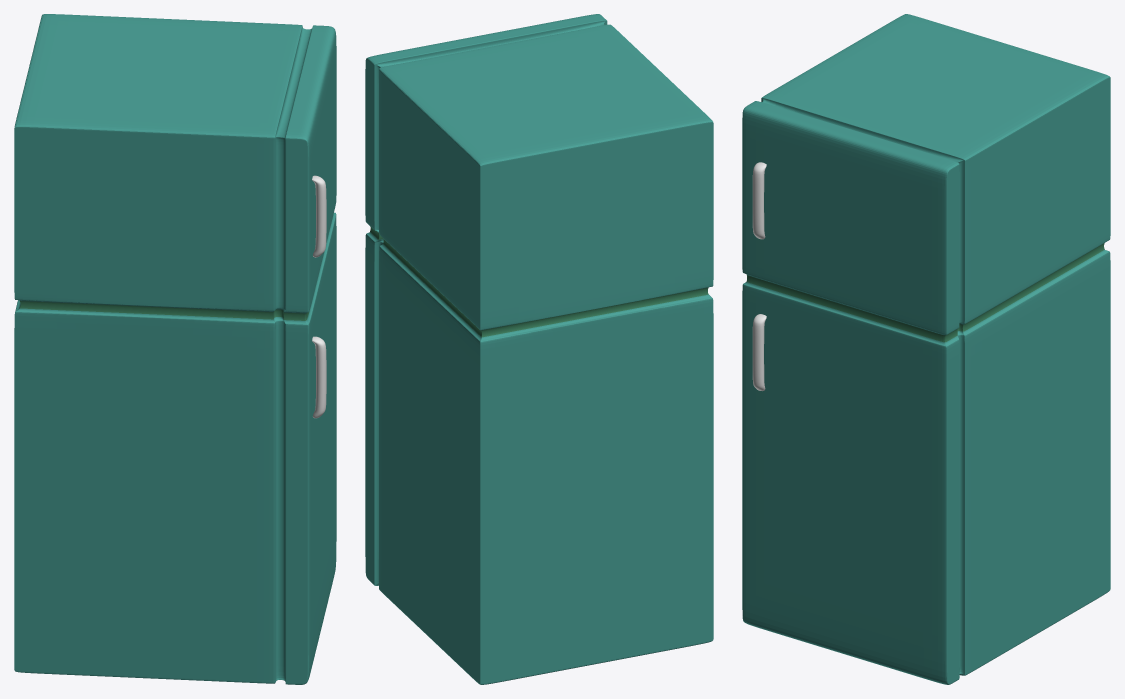
The model's file is refreg.glb.
The picture shows the model from 3 angles, left to right: view 1: azimuth 30°, elevation 25°; view 2: azimuth 150°, elevation 25°; view 3: azimuth 270°, elevation 25°; orthographic projection. The views are drawn at different scales.
Size of the model in its own units: 4.09 by 6.25 by 4.02.
